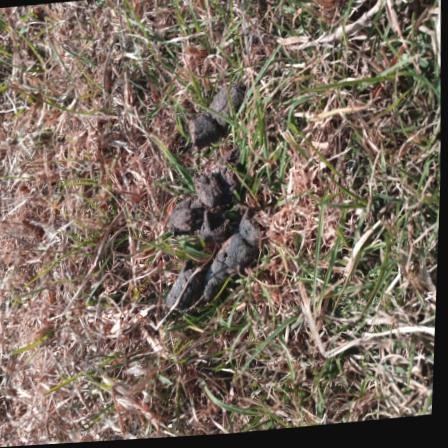dog-poop: (148, 73, 272, 335)
